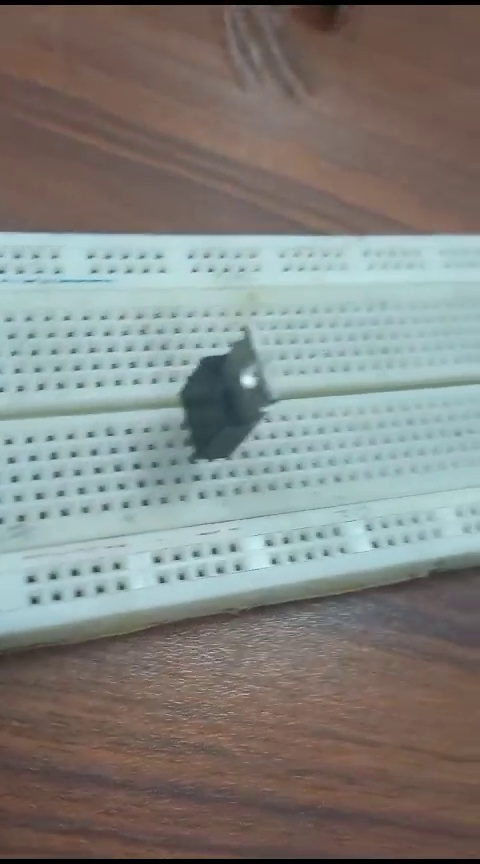voltage regulator: (164, 331, 272, 468)
